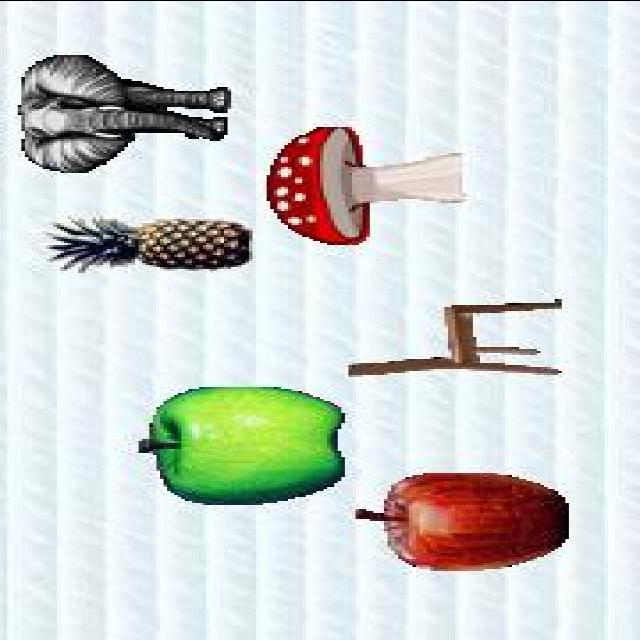Other Objects: (138, 386, 348, 504), (263, 126, 466, 246), (352, 471, 568, 572)
